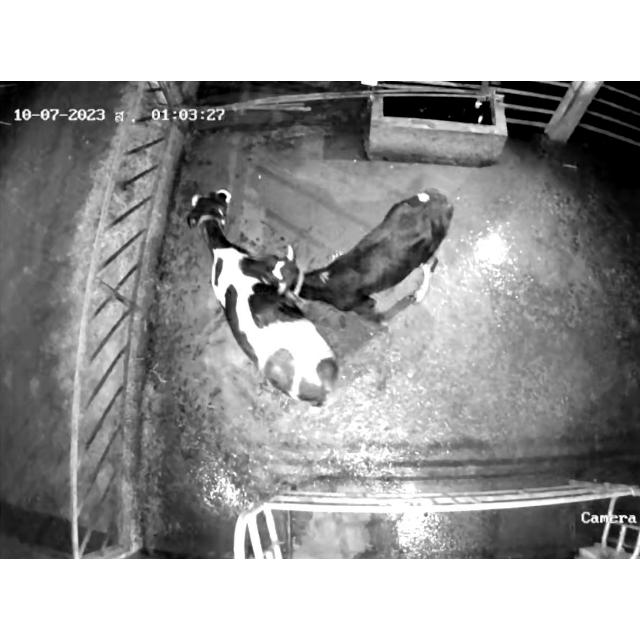propping: (210, 235, 360, 312)
